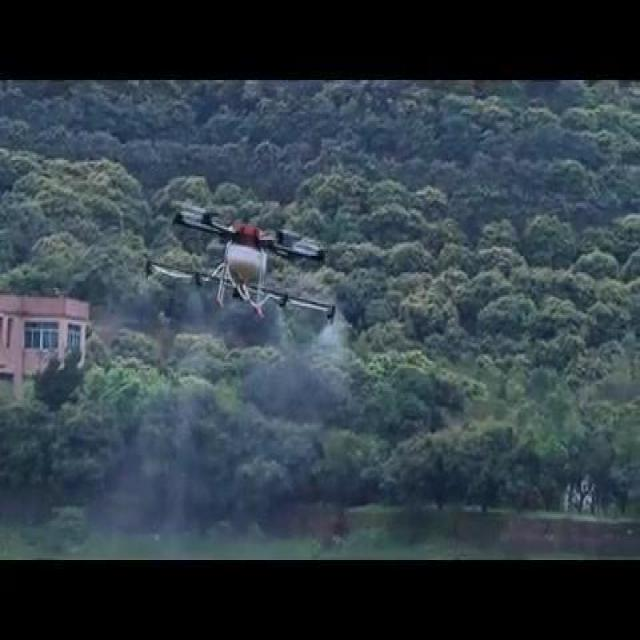UAV: (145, 208, 339, 329)
